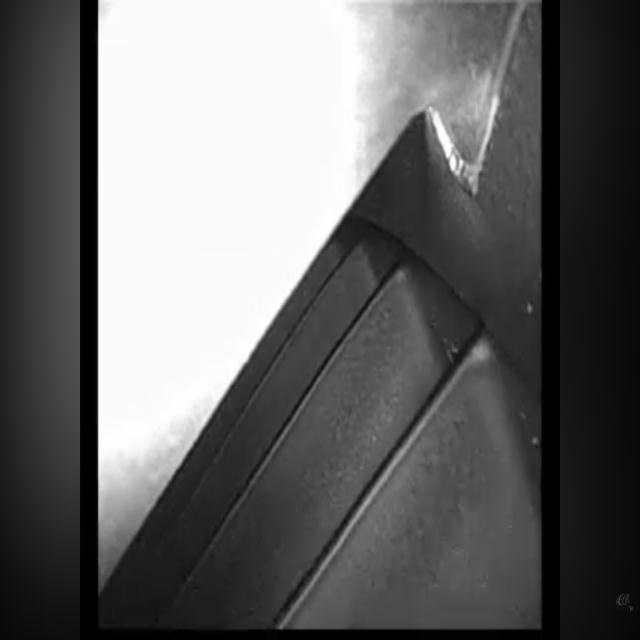turbine_blade: (158, 261, 451, 628), (281, 338, 541, 629)
